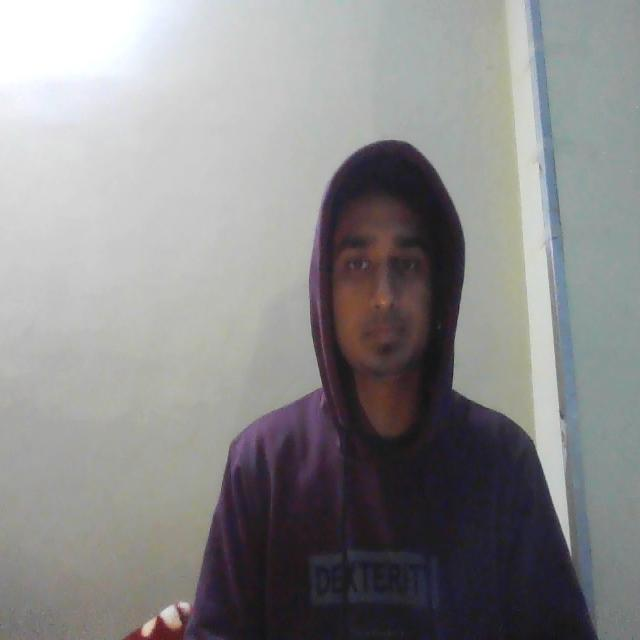real: (312, 140, 457, 413)
